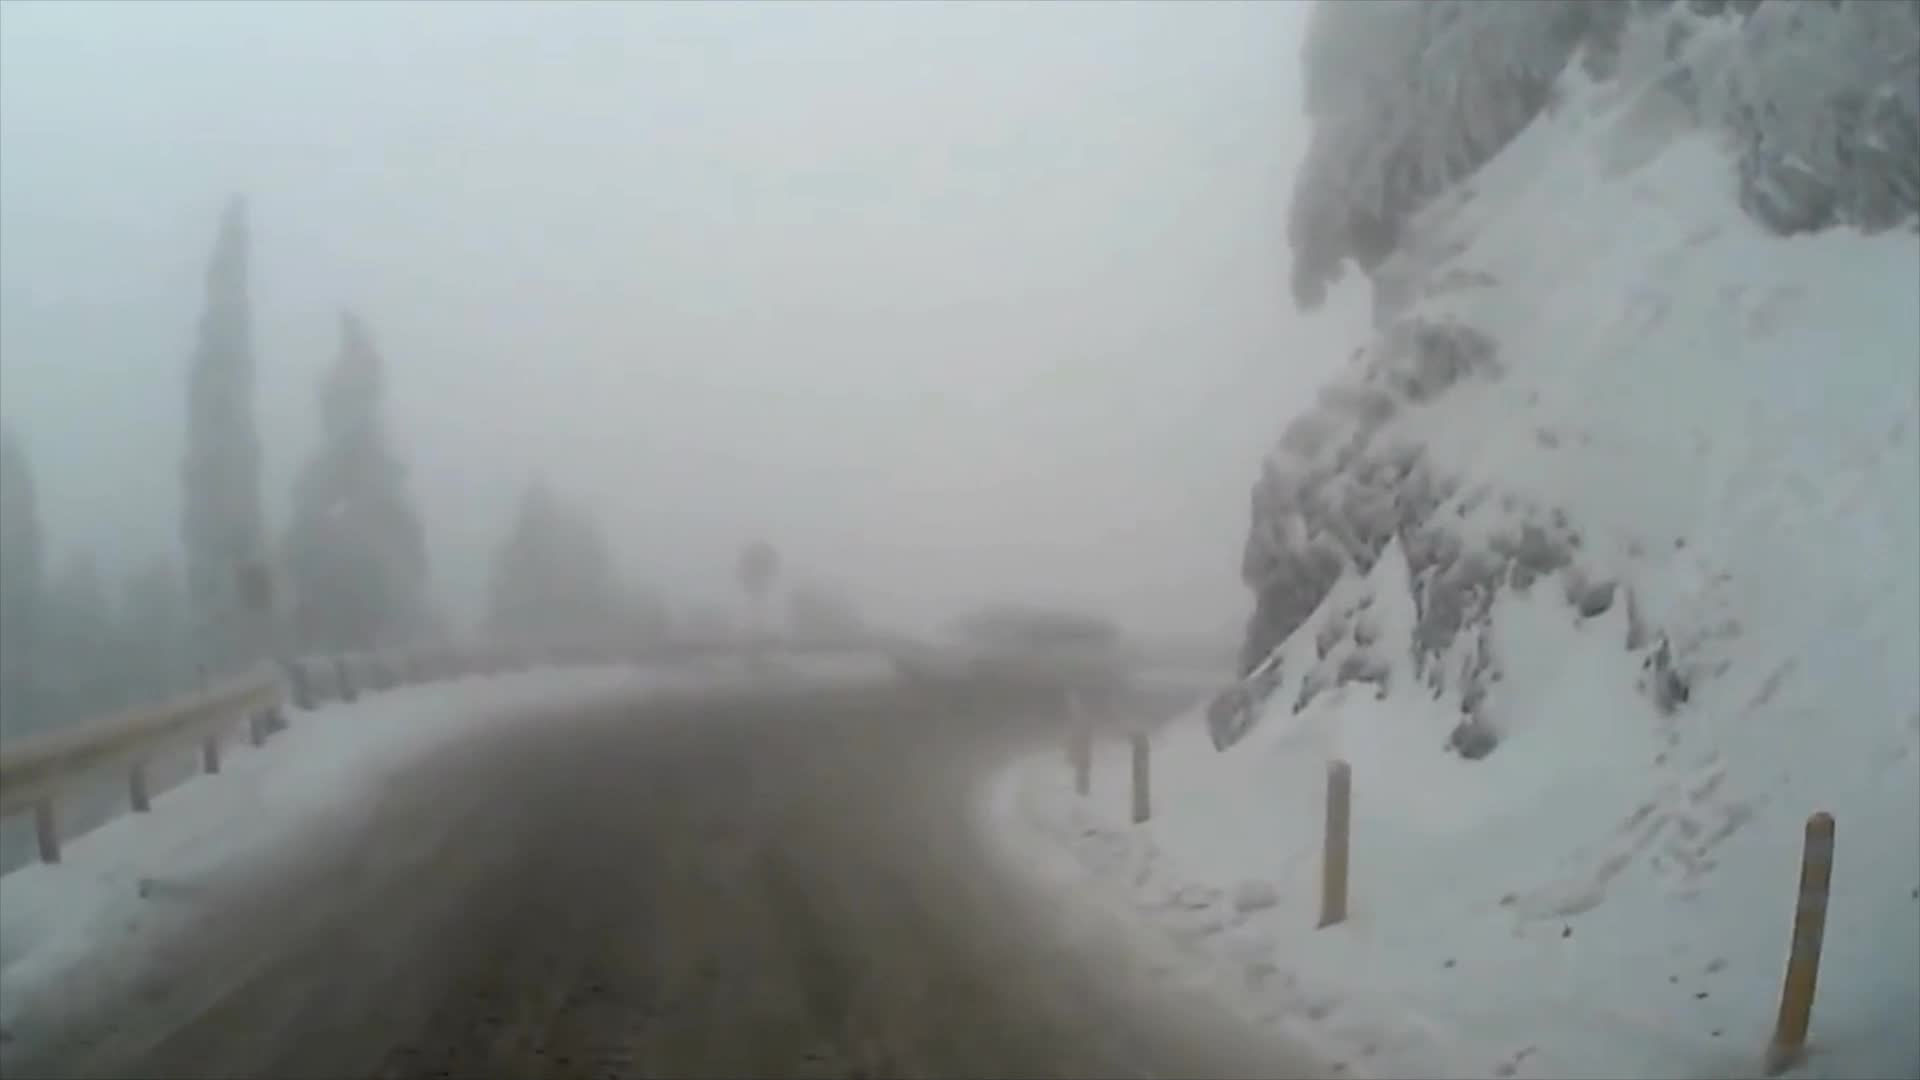vehicle: (884, 597, 1127, 715)
